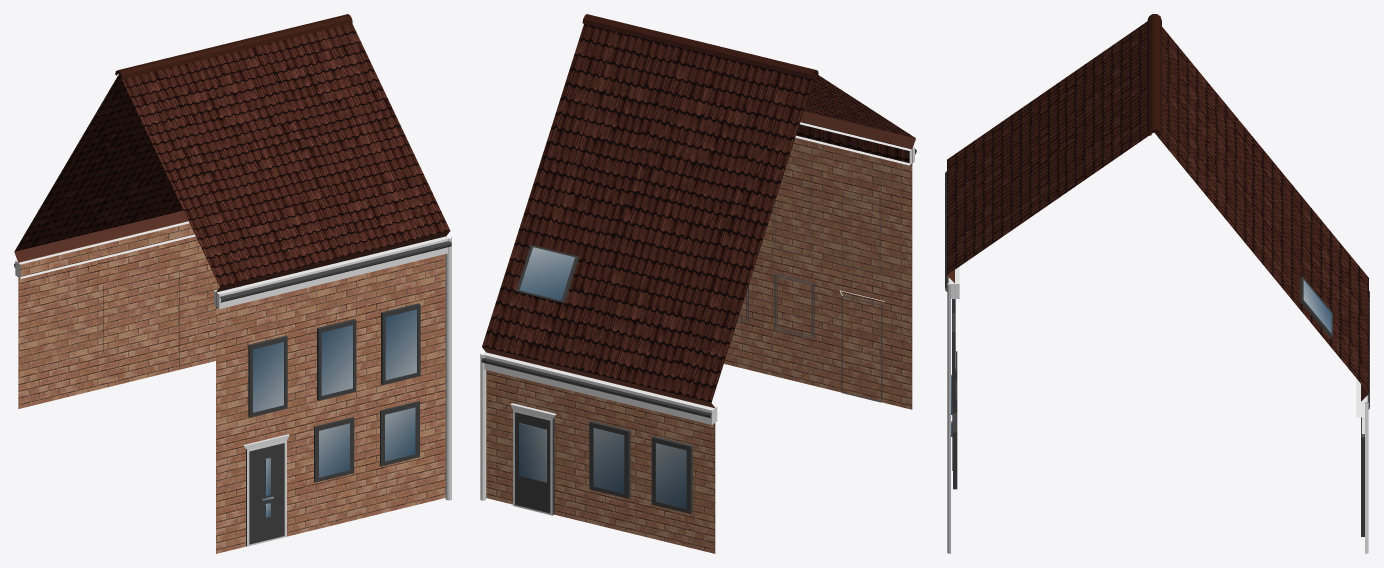
Rendered from Buorkerij_27.fbx.
3 renders of one model, left to right at view 1: azimuth 30°, elevation 25°; view 2: azimuth 150°, elevation 25°; view 3: azimuth 270°, elevation 25°, orthographic. The views are drawn at different scales.
Parts seen in each view (by area): view 1: Buorkerij_27; view 2: Buorkerij_27; view 3: Buorkerij_27.
Boxes of the visible parts, x1,y1,x2,y2 form: Buorkerij_27: (14,14,451,553); Buorkerij_27: (480,14,916,553); Buorkerij_27: (945,14,1369,553).
Bounding box in the file's own units: 612 × 1031 × 938.
